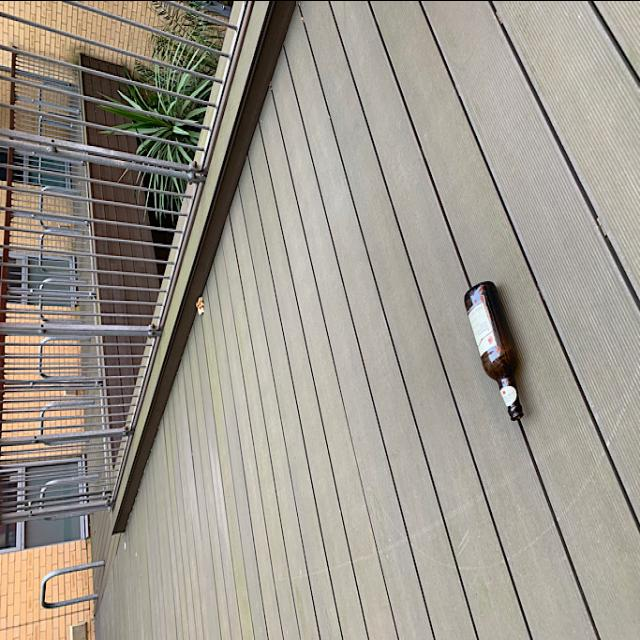litter: (462, 273, 532, 425)
